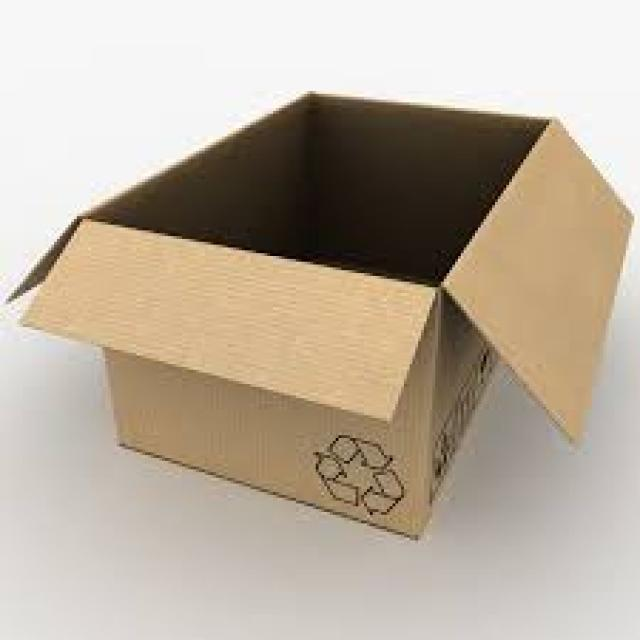Cardboard: (9, 93, 634, 540)
